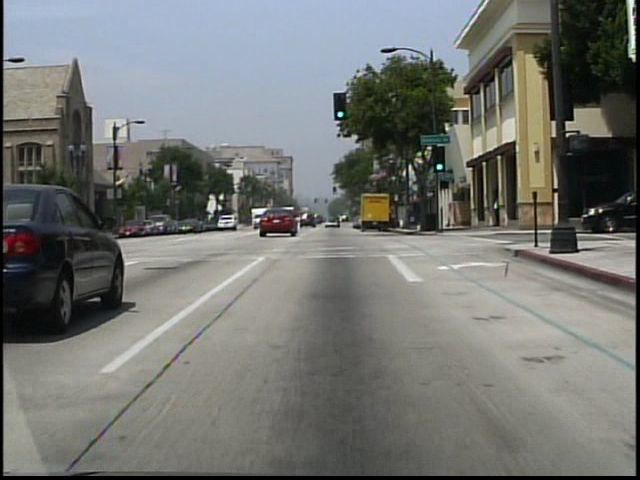person: (490, 195, 501, 229)
